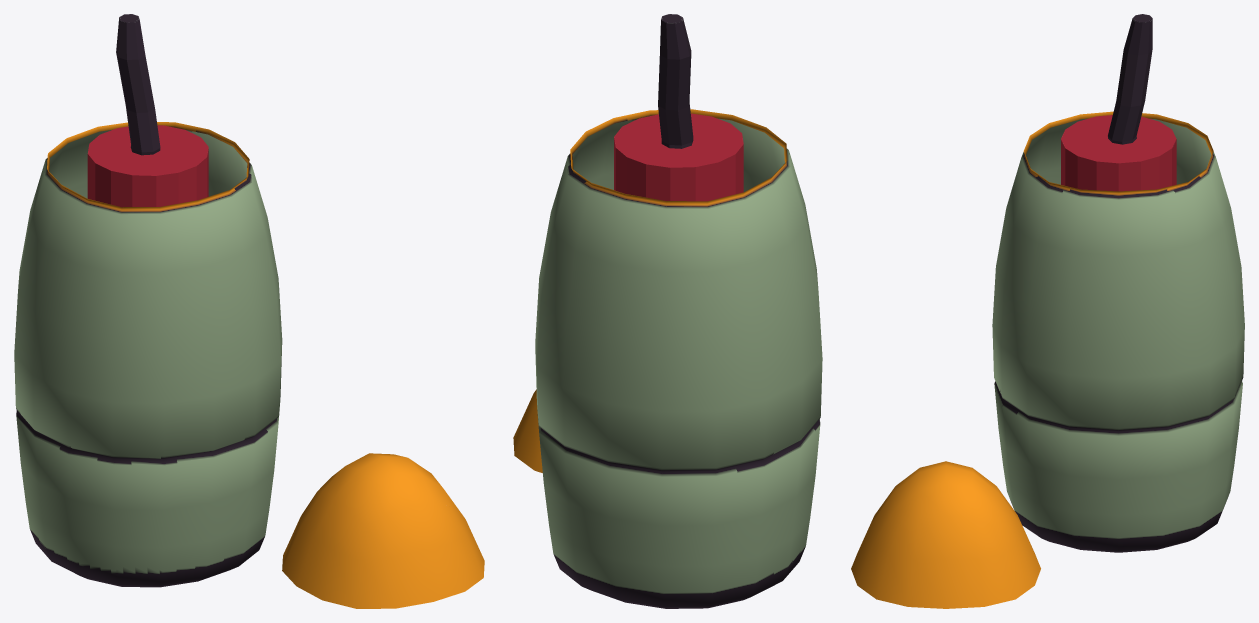
The model's file is Missile_1_Assembled.glb.
3 renders of one model, left to right at view 1: azimuth 30°, elevation 25°; view 2: azimuth 150°, elevation 25°; view 3: azimuth 270°, elevation 25°, orthographic. The views are drawn at different scales.
Visible parts, largest first — view 1: Canister.001, CanisterTop.002, Cylinder, Cylinder.001; view 2: Canister.001, Cylinder, Cylinder.001, CanisterTop.002; view 3: Canister.001, CanisterTop.002, Cylinder, Cylinder.001.
Boxes of the visible parts, box(x1,y1,x2,y2) form: Canister.001: box(14, 122, 282, 587); CanisterTop.002: box(282, 453, 484, 608); Cylinder: box(87, 125, 208, 207); Cylinder.001: box(116, 14, 160, 155); Canister.001: box(535, 109, 822, 608); Cylinder: box(614, 113, 743, 201); Cylinder.001: box(658, 14, 693, 148); CanisterTop.002: box(513, 389, 542, 472); Canister.001: box(992, 111, 1244, 552); CanisterTop.002: box(851, 461, 1040, 608); Cylinder: box(1061, 115, 1176, 191); Cylinder.001: box(1108, 14, 1152, 144).
Bounding box in the file's own units: 0.6879 × 0.9936 × 0.715.
Materials: 3 (3 with a texture image).
